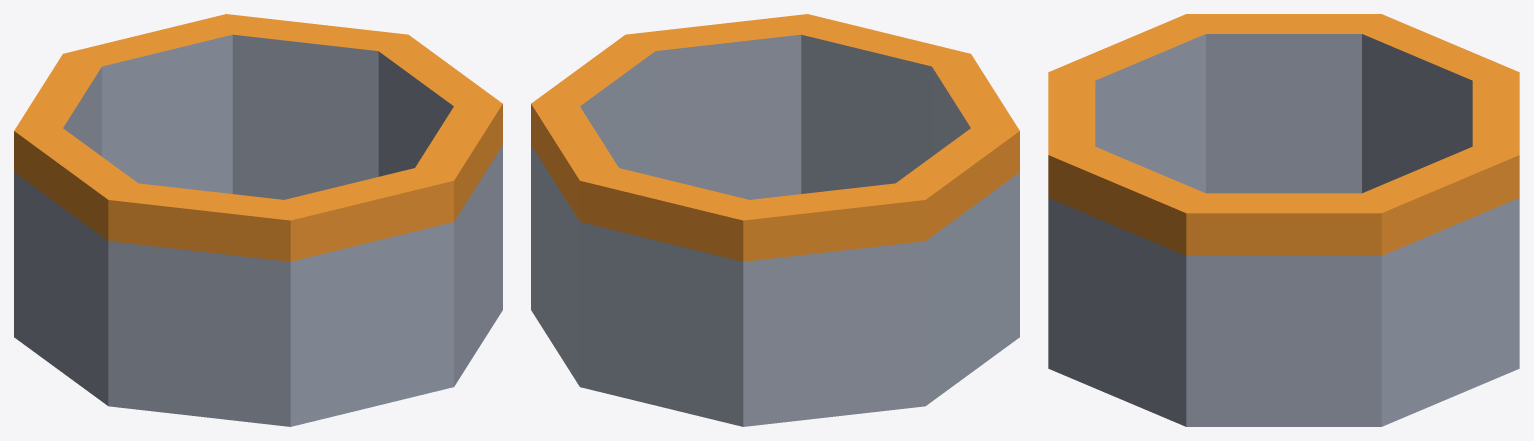
File: rocket_fuelA.obj
The picture shows the model from 3 angles, left to right: view 1: azimuth 30°, elevation 25°; view 2: azimuth 150°, elevation 25°; view 3: azimuth 270°, elevation 25°; orthographic projection. The views are drawn at different scales.
Parts seen in each view (by area): view 1: rocket_fuelA; view 2: rocket_fuelA; view 3: rocket_fuelA.
Part boxes in pixels (bbox=[...]): rocket_fuelA: bbox=[14, 14, 502, 426]; rocket_fuelA: bbox=[531, 14, 1019, 426]; rocket_fuelA: bbox=[1048, 14, 1519, 426].
Size of the model in its own units: 1 by 0.5 by 1.
